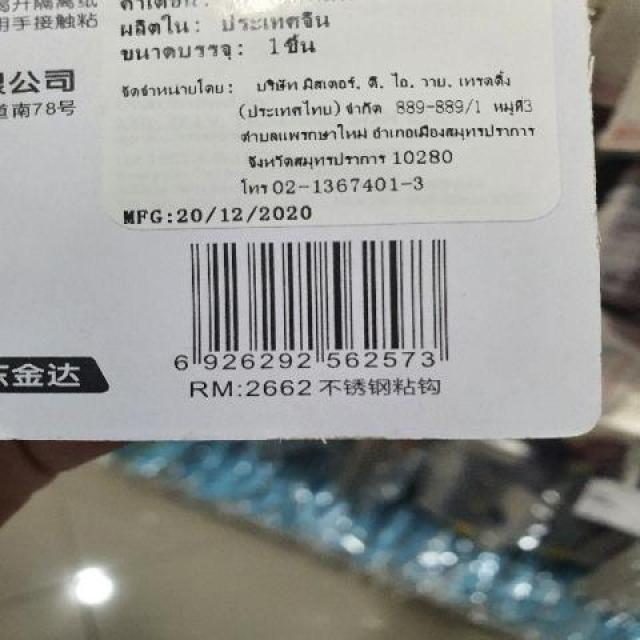Barcode: (156, 234, 471, 378)
